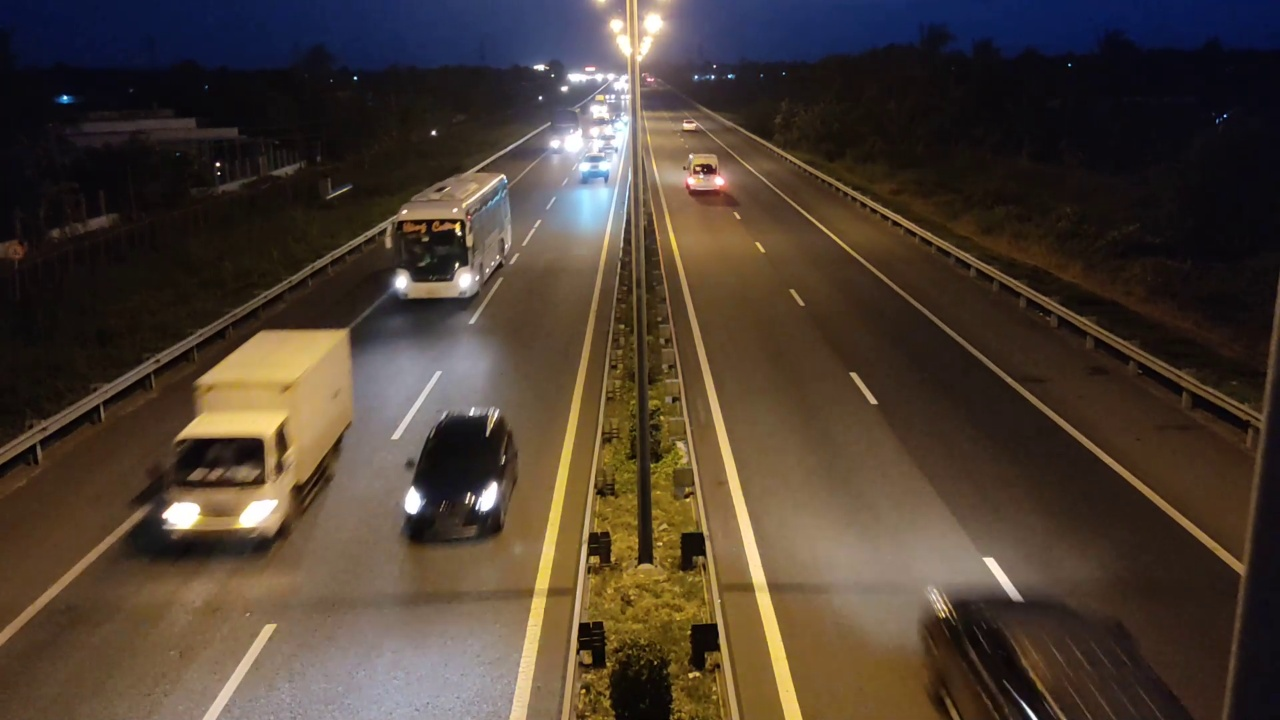bus: (391, 171, 513, 301)
car: (398, 405, 520, 543), (577, 155, 613, 185)
truck: (134, 327, 357, 554)
